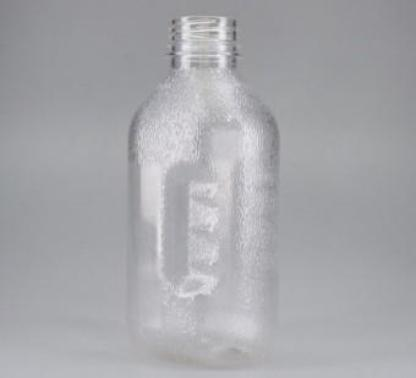Plastic Bottle: (128, 16, 279, 366)
